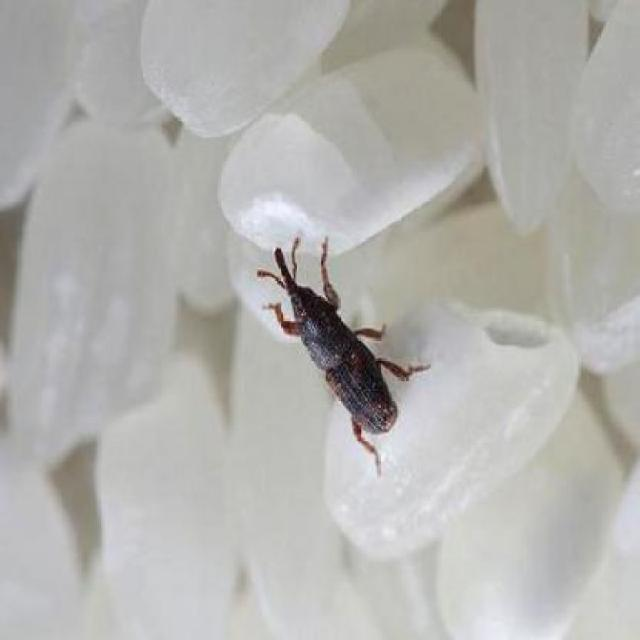rice-bug: (270, 225, 401, 453)
